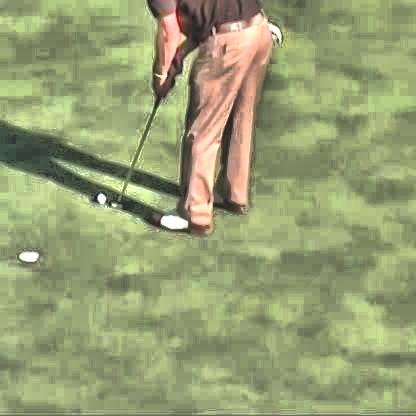golfball: (94, 189, 104, 200)
